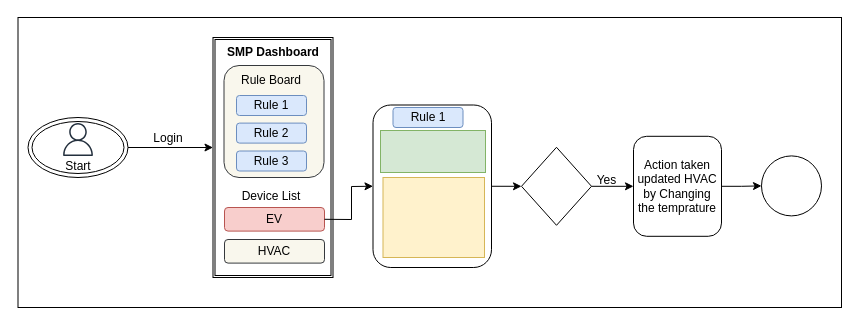
This 859x325 diagram has some shape labels left out. Here are the shapes that lost their labels. From the top down, the centre of each, then its label:
At (x=433, y=151): "IF EV Connected [High Priority]".
At (x=556, y=185): "Rule 1 triggred".
At (x=791, y=185): "Done".
At (x=433, y=217): "THEN update HVAC by Changing the temprature [Low priority]".
